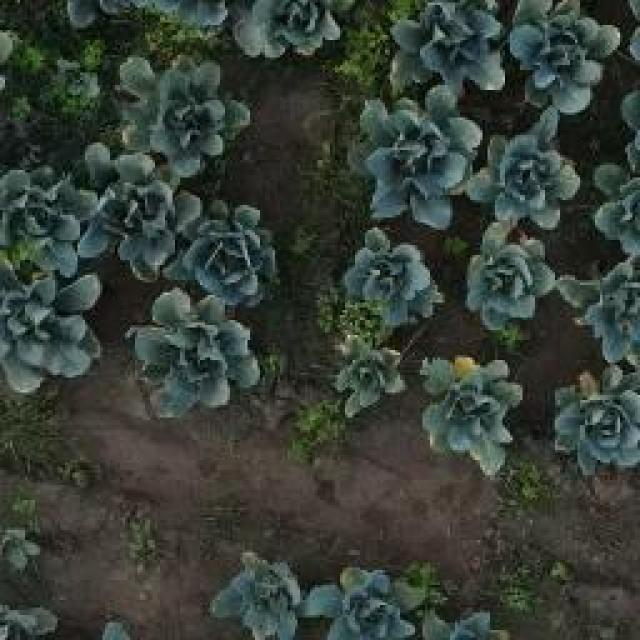cabbage: (136, 290, 262, 414), (78, 148, 187, 281), (128, 54, 250, 163), (470, 112, 580, 230), (420, 350, 522, 472), (0, 277, 99, 400), (364, 97, 466, 216), (508, 0, 624, 100), (181, 200, 287, 303), (393, 0, 515, 88), (458, 224, 560, 327), (0, 162, 88, 276), (338, 231, 442, 322), (305, 555, 417, 638), (210, 552, 304, 638), (550, 381, 640, 468), (566, 262, 640, 361), (237, 0, 346, 62), (334, 335, 406, 416)
